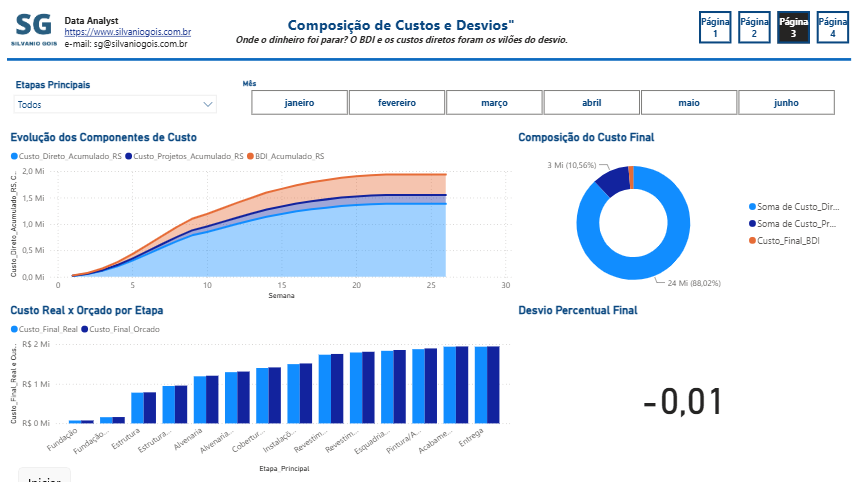

This screenshot's page, from the dashboard's own definition file:
{"tool":"powerbi","page":{"name":"Página 3","canvas":[1280,720],"ordinal":2},"visuals":[{"type":"image","box":[16,0,80,80],"z":0},{"type":"textbox","box":[96,16,208,64],"z":1000},{"type":"textbox","box":[320,0,560,80],"z":2000},{"type":"pageNavigator","box":[1040,16,224,48],"z":3000},{"type":"shape","box":[16,80,1248,16],"z":4000},{"type":"stackedAreaChart","title":"Evolução dos Componentes de Custo","fields":{"Category":["Obra.Semana"],"Y":["Sum(Obra.Custo_Direto_Acumulado_RS)","Sum(Obra.Custo_Projetos_Acumulado_RS)","Sum(Obra.BDI_Acumulado_RS)"]},"box":[16,192,752,256],"z":5000},{"type":"donutChart","title":"Composição do Custo Final","fields":{"Y":["Sum(Obra.Custo_Direto_Acumulado_RS)","Sum(Obra.Custo_Projetos_Acumulado_RS)","Medidas_Pag3.Custo_Final_BDI"]},"box":[768,192,496,256],"z":6000},{"type":"clusteredColumnChart","title":"Custo Real x Orçado por Etapa","fields":{"Category":["Obra.Etapa_Principal"],"Y":["Medidas_Pag1.Custo_Final_Real","Medidas_Pag1.Custo_Final_Orcado"]},"box":[16,448,752,256],"z":7000},{"type":"card","title":"Desvio Percentual Final","fields":{"Values":["Medidas_Pag3.Desvio_%"]},"box":[768,448,496,256],"z":8000},{"type":"slicer","fields":{"Values":["Obra.Etapa_Principal"]},"box":[16,112,320,64],"z":9000},{"type":"slicer","fields":{"Values":["Obra.Data.Variation.Hierarquia de datas.Mês"]},"box":[352,112,912,64],"z":10000}]}

Visuals, with their boxes in screenshot pixels (x1, y1, x2, y2), scaled from the page's 1280x720 canvas onto the 862x482 screenshot:
image: 11 0 65 54
textbox: 65 11 205 54
textbox: 216 0 593 54
pageNavigator: 700 11 851 43
shape: 11 54 851 64
"Evolução dos Componentes de Custo" stackedAreaChart: 11 129 517 300
"Composição do Custo Final" donutChart: 517 129 851 300
"Custo Real x Orçado por Etapa" clusteredColumnChart: 11 300 517 471
"Desvio Percentual Final" card: 517 300 851 471
slicer - Obra.Etapa_Principal: 11 75 226 118
slicer - Obra.Data.Variation.Hierarquia de datas.Mês: 237 75 851 118
